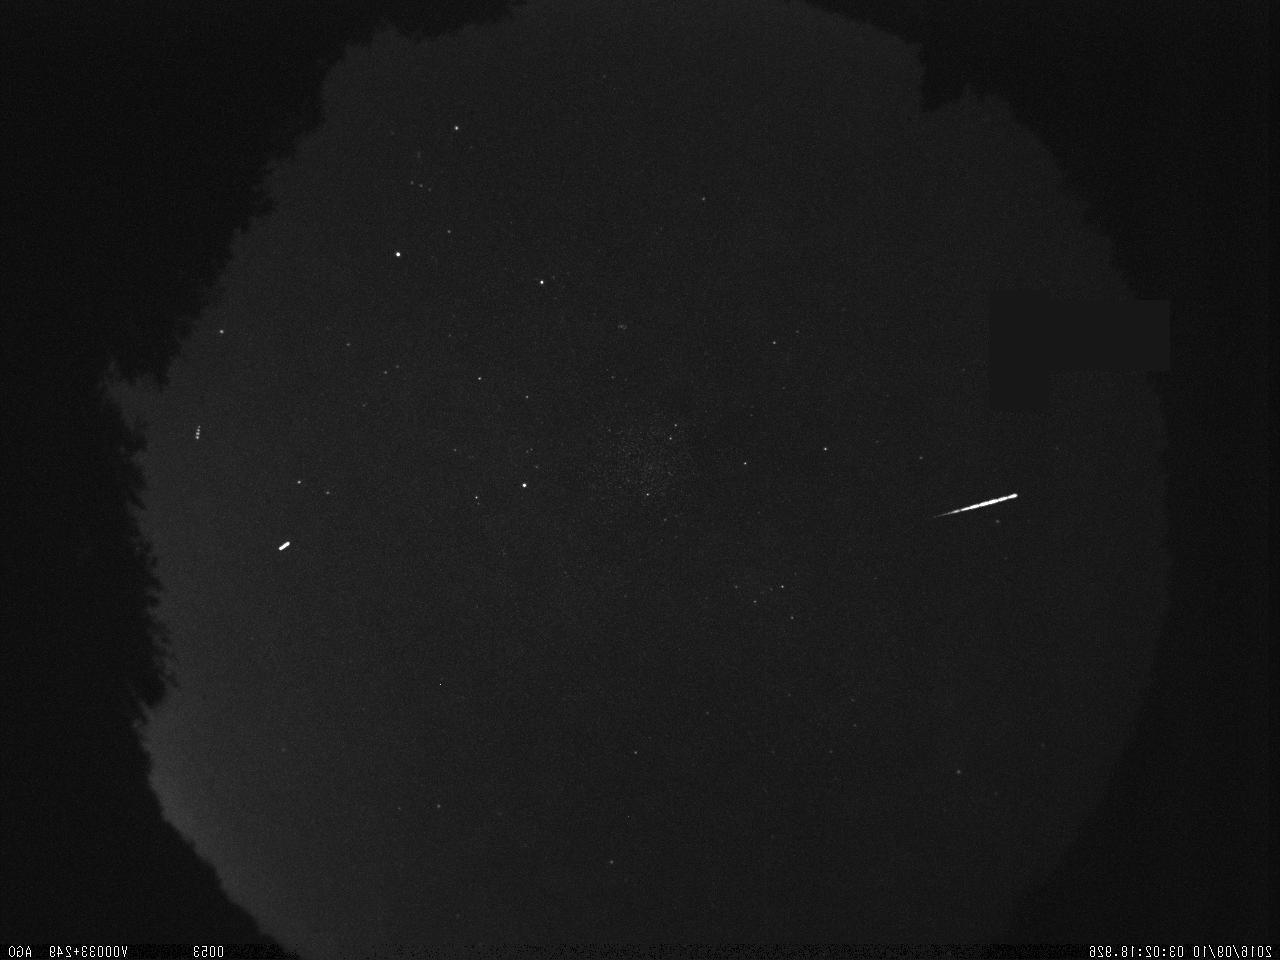meteor: (908, 484, 1022, 530)
satelite: (273, 532, 294, 560), (190, 418, 206, 450)
